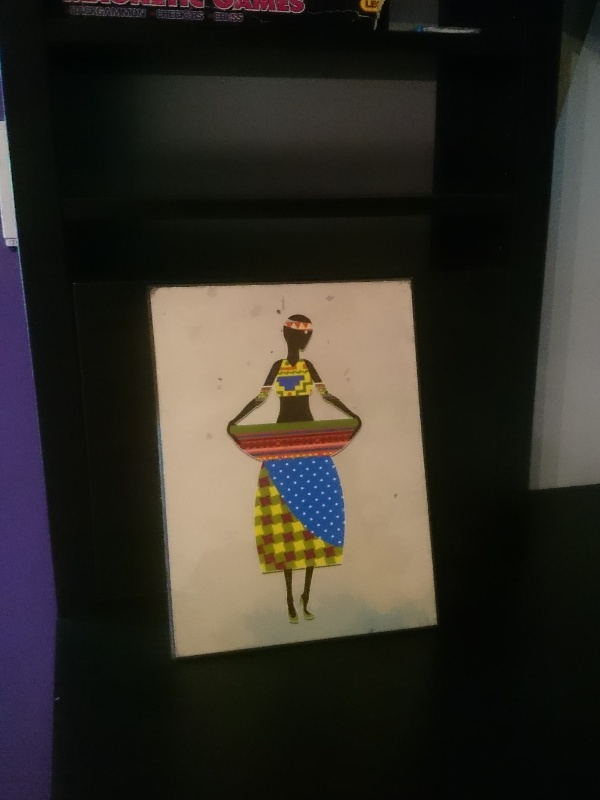my image: (150, 279, 433, 662)
